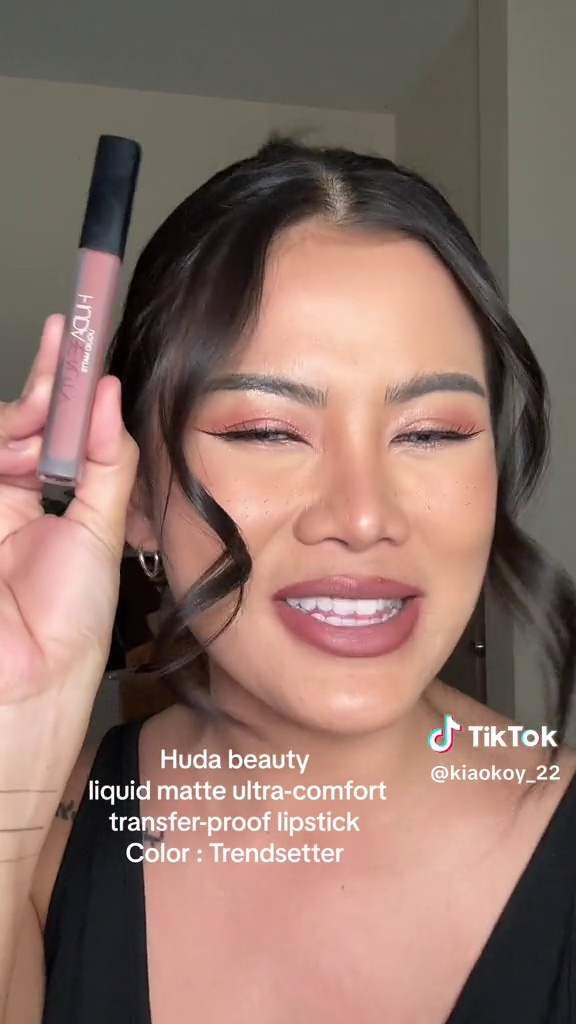train' :'yolo_data/train/images',: (28, 126, 149, 493)
